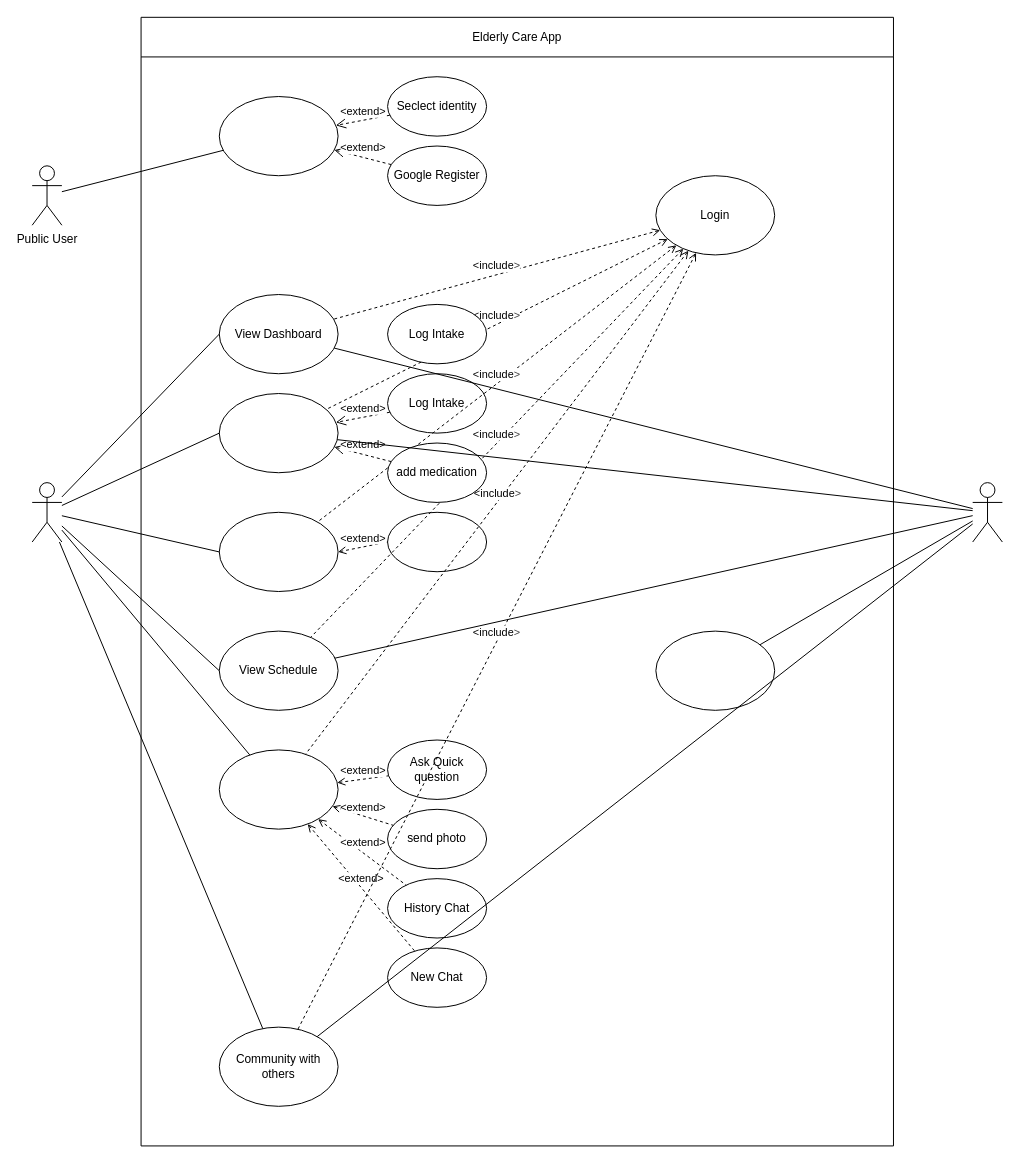
Image size: 1031x1163. Some labels were removed from this diagram. The shapes that lost their labels are listed below. From the top down, each one's centre as x and y in pixels, then its label:
At pixel 278 136: "Register Account".
At pixel 278 433: "Manage Medications".
At pixel 46 512: "Elderly".
At pixel 987 512: "Caregiver".
At pixel 278 551: "Trigger Emergency".
At pixel 437 541: "Call 999".
At pixel 715 670: "Set Schedule".
At pixel 278 789: "Chat with AI".
